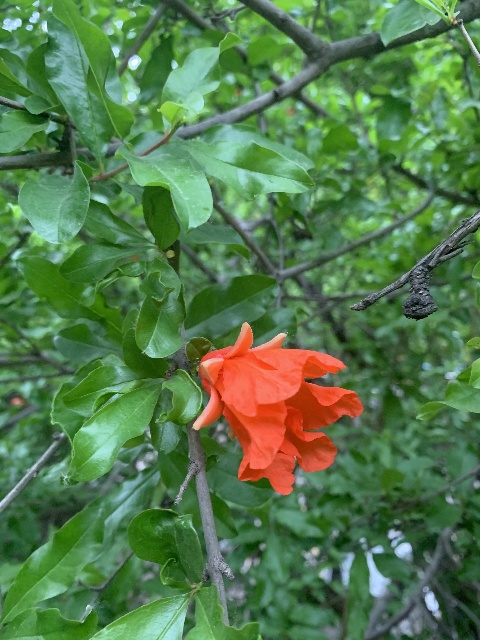flower: (191, 323, 364, 495)
